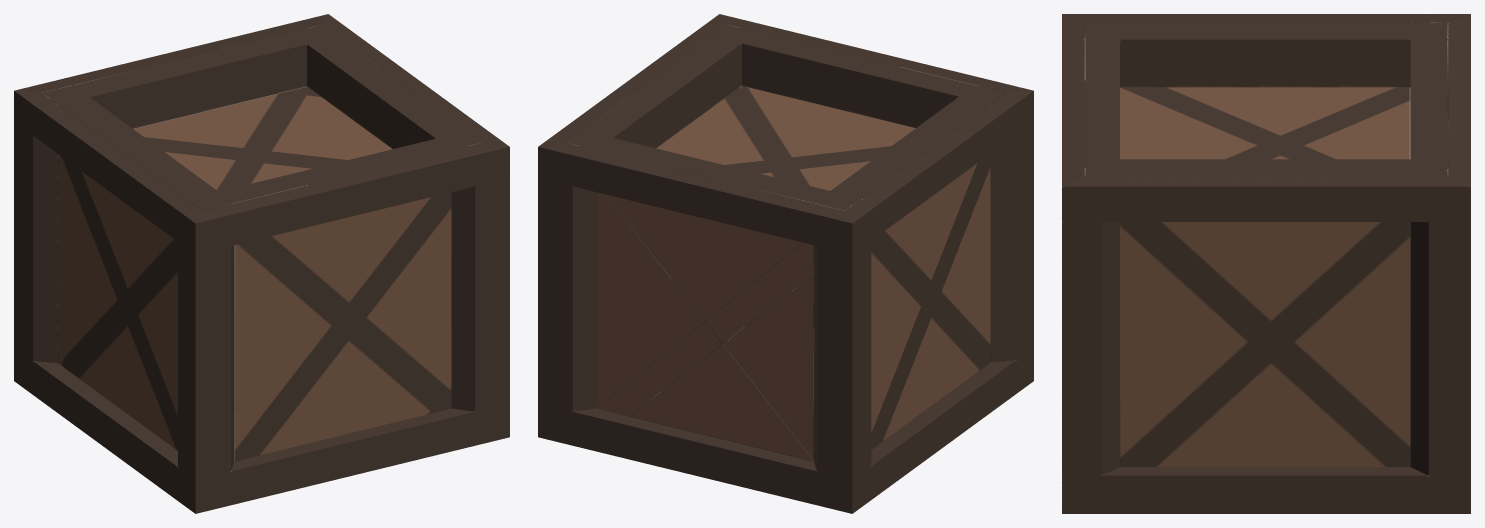
Rendered from boxclosed.fbx.
The picture shows the model from 3 angles, left to right: view 1: azimuth 30°, elevation 25°; view 2: azimuth 150°, elevation 25°; view 3: azimuth 270°, elevation 25°; orthographic projection. The views are drawn at different scales.
Parts seen in each view (by area): view 1: BoxOpen; view 2: BoxOpen; view 3: BoxOpen.
Boxes of the visible parts, x1,y1,x2,y2 form: BoxOpen: (14, 14, 509, 513); BoxOpen: (538, 14, 1033, 513); BoxOpen: (1062, 14, 1470, 513).
Bounding box in the file's own units: 2.39 × 2.13 × 2.39.
